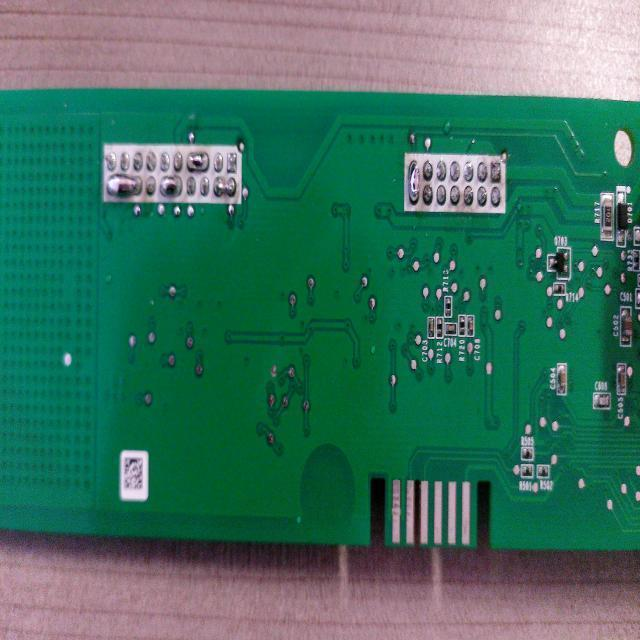Soldering shorted: (103, 171, 144, 197), (408, 158, 422, 206), (187, 148, 209, 174), (160, 176, 183, 200), (215, 176, 238, 200)
